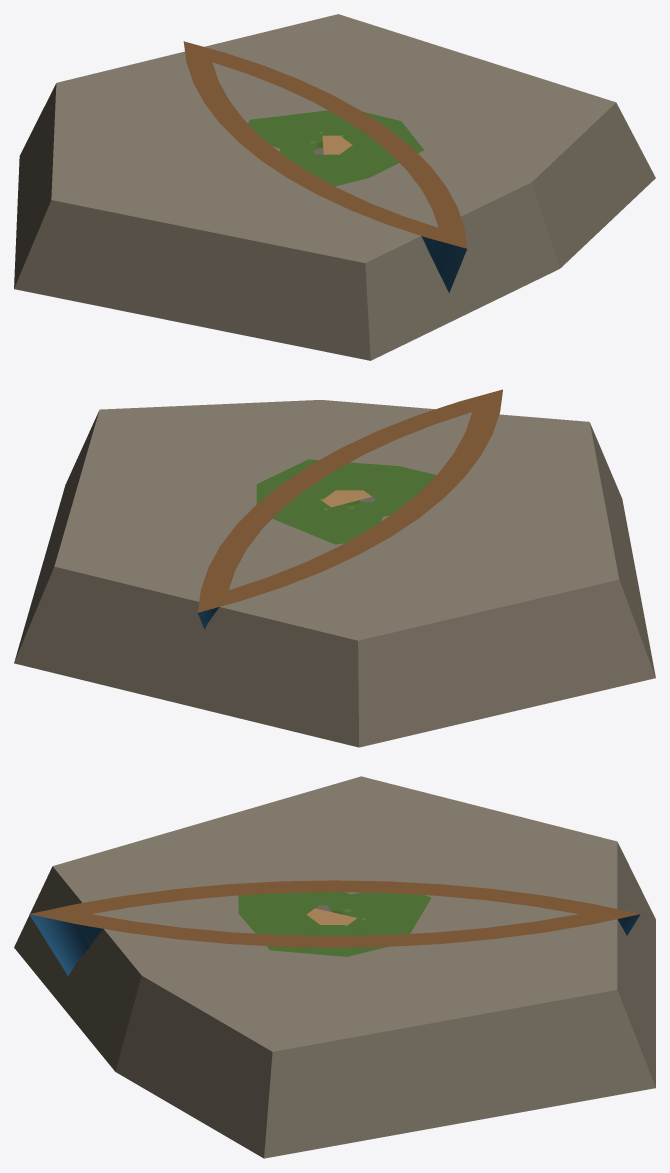
Rendered from outskirts.glb.
3 views of the same model, one above another, from view 1: azimuth 30°, elevation 25°; view 2: azimuth 150°, elevation 25°; view 3: azimuth 270°, elevation 25° (orthographic). The views are drawn at different scales.
Visible parts, largest first — view 1: beachRock, canoe, boulder; view 2: beachRock, canoe, boulder, desertSpire; view 3: beachRock, canoe, boulder.
Part boxes in pixels (<box>): beachRock: <box>14,14,655,360</box>; canoe: <box>183,41,467,292</box>; boulder: <box>248,110,423,186</box>; beachRock: <box>14,400,655,747</box>; canoe: <box>197,389,502,629</box>; boulder: <box>256,459,436,544</box>; desertSpire: <box>322,490,371,507</box>; beachRock: <box>14,776,655,1158</box>; canoe: <box>29,880,640,975</box>; boulder: <box>238,892,431,956</box>.
Size of the model in its own units: 7.63 by 1 by 6.61.
